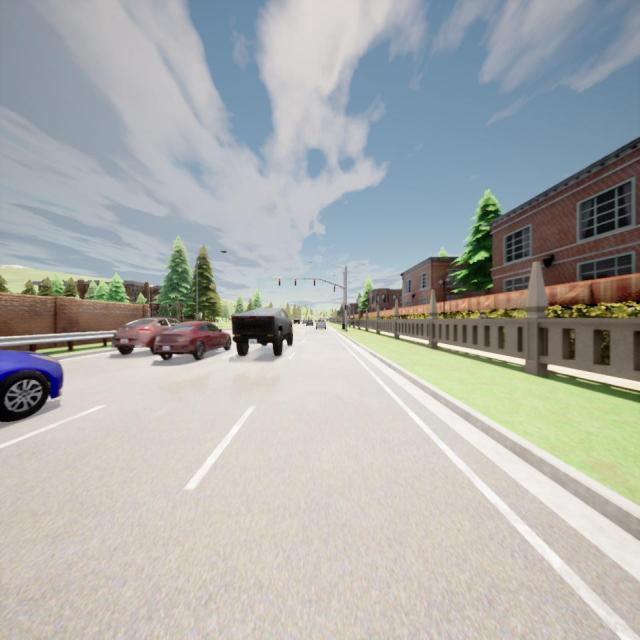Vehicle: (0, 350, 64, 423), (154, 319, 230, 360), (232, 308, 294, 357), (112, 318, 182, 354), (316, 318, 326, 330), (293, 317, 300, 324), (306, 320, 313, 326), (302, 319, 308, 324)
traffic_light: (278, 278, 280, 286), (344, 302, 346, 310), (294, 278, 296, 286), (314, 278, 316, 286), (333, 285, 335, 292)
